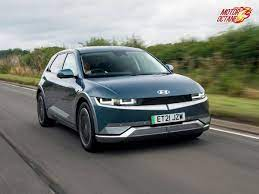Honda Ioniq: (31, 42, 220, 156)
